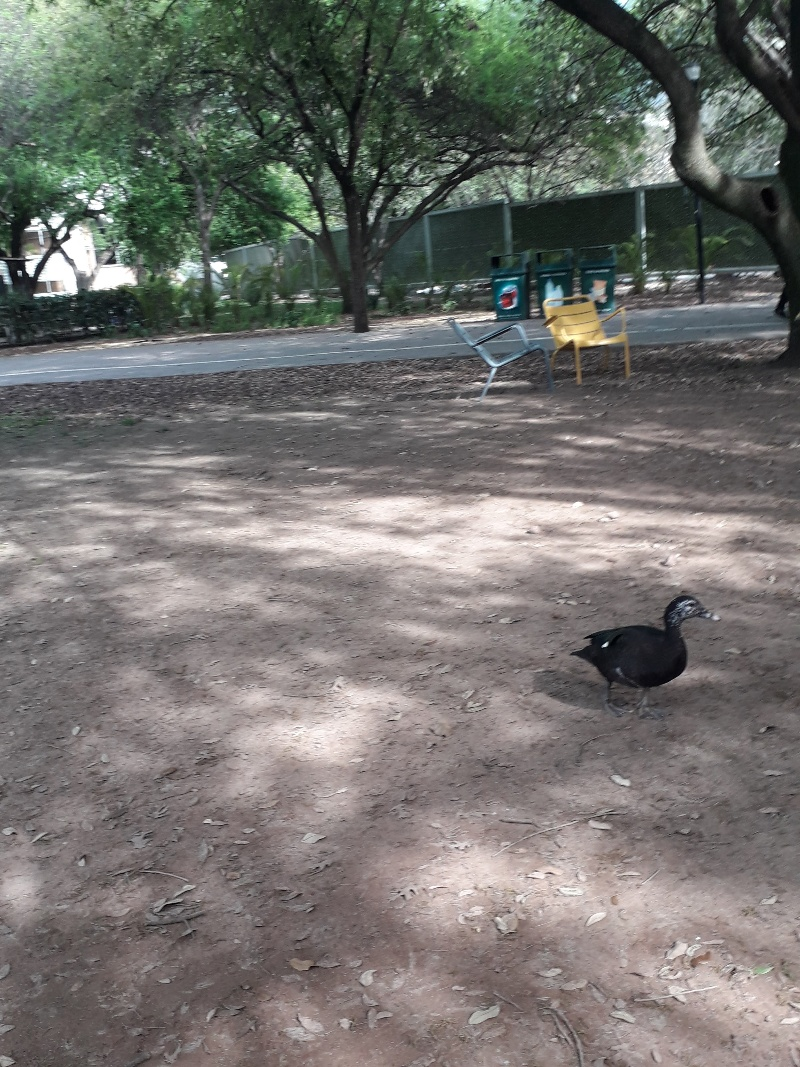pato: (580, 588, 706, 708)
